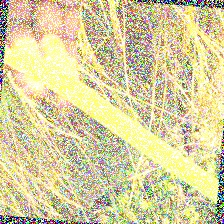Bacterial_Leaf_Blight: (41, 72, 53, 82), (143, 131, 151, 139), (151, 149, 161, 155), (85, 109, 95, 114)
